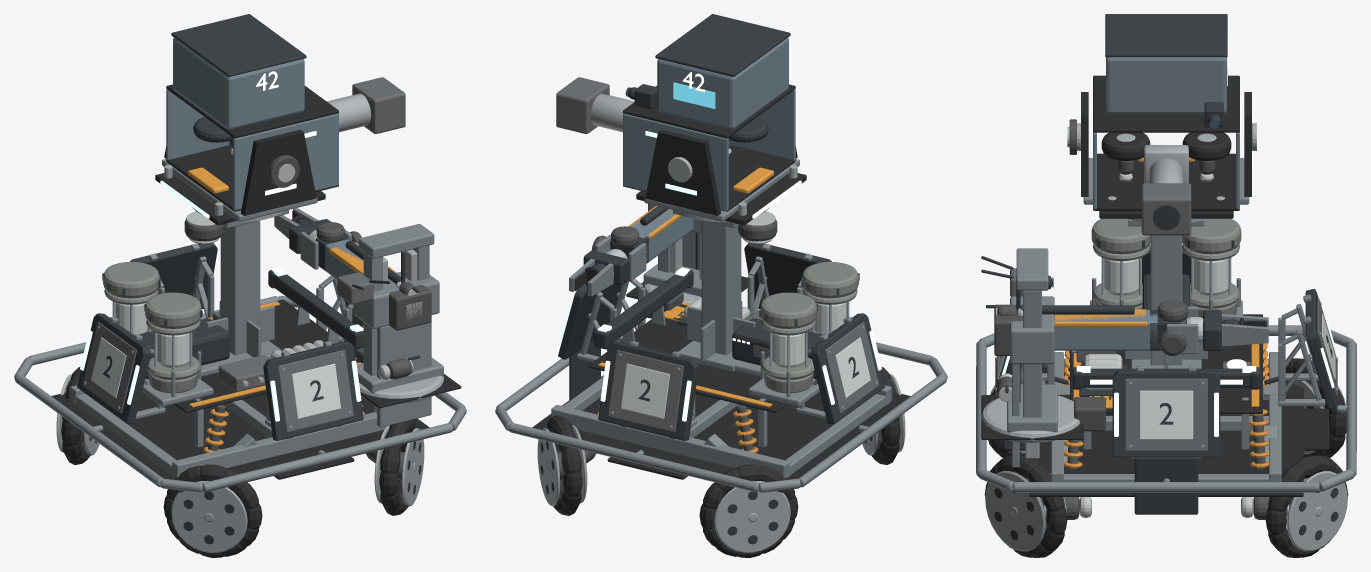
The model's file is robot-2713-spec2027.glb.
3 views of the same model, side by side, from view 1: azimuth 30°, elevation 25°; view 2: azimuth 150°, elevation 25°; view 3: azimuth 270°, elevation 25° (orthographic). The views are drawn at different scales.
Parts seen in each view (by area): view 1: Chassis_RobotMatteAluminum, GunPitch_TeamPrimaryShell, Chassis_CarbonPlate, GunPitch_RobotMatteGraphite, ArmLift_RobotMatteAluminum, ArmSlew_RobotMatteAluminum, LauncherModule_CarbonPlate, GunPitch_CarbonPlate, Wheel_0_MachinedAlloy, Chassis_RobotMatteGraphite, CarriedUnit_0_ProtectiveMetal, ArmorModuleBody.003 (+30 smaller); view 2: Chassis_RobotMatteAluminum, GunPitch_TeamPrimaryShell, Chassis_CarbonPlate, GunPitch_RobotMatteGraphite, Chassis_RobotMatteGraphite, LauncherModule_CarbonPlate, Wheel_1_MachinedAlloy, GunPitch_CarbonPlate, CarriedUnit_1_ProtectiveMetal, ArmorModuleBody.001, ArmorHitFace.001, Wheel_1_PolyurethaneRoller (+28 smaller); view 3: Chassis_RobotMatteAluminum, Chassis_CarbonPlate, GunPitch_CarbonPlate, GunPitch_TeamPrimaryShell, GunPitch_RobotMatteGraphite, Chassis_RobotMatteGraphite, ArmSlew_RobotMatteAluminum, ArmorHitFace, ArmorModuleBody, BoomOuter, Wheel_2_MachinedAlloy, Wheel_3_MachinedAlloy (+34 smaller).
Boxes of the visible parts, x1,y1,x2,y2 form: Chassis_RobotMatteAluminum: (14,210,466,492); GunPitch_TeamPrimaryShell: (166,37,338,210); Chassis_CarbonPlate: (51,299,461,492); GunPitch_RobotMatteGraphite: (171,14,306,142); ArmLift_RobotMatteAluminum: (353,271,439,427); ArmSlew_RobotMatteAluminum: (356,224,443,393); LauncherModule_CarbonPlate: (164,129,316,215); GunPitch_CarbonPlate: (166,84,338,211); Wheel_0_MachinedAlloy: (171,481,247,552); Chassis_RobotMatteGraphite: (139,270,363,378); CarriedUnit_0_ProtectiveMetal: (145,292,201,393); ArmorModuleBody.003: (263,341,363,440); Chassis_RobotMatteAluminum: (495,210,947,492); GunPitch_TeamPrimaryShell: (623,37,795,210); Chassis_CarbonPlate: (532,276,910,492); GunPitch_RobotMatteGraphite: (628,14,790,142); Chassis_RobotMatteGraphite: (569,270,822,399); LauncherModule_CarbonPlate: (645,129,797,215); Wheel_1_MachinedAlloy: (714,481,790,552); GunPitch_CarbonPlate: (623,84,795,211); CarriedUnit_1_ProtectiveMetal: (760,292,816,393); ArmorModuleBody.001: (598,341,698,440); ArmorHitFace.001: (608,350,683,432); Wheel_1_PolyurethaneRoller: (699,464,798,557); Chassis_RobotMatteAluminum: (976,219,1356,492); Chassis_CarbonPlate: (981,314,1329,496); GunPitch_CarbonPlate: (1093,75,1239,210); GunPitch_TeamPrimaryShell: (1093,57,1239,210); GunPitch_RobotMatteGraphite: (1105,14,1227,230); Chassis_RobotMatteGraphite: (1039,274,1293,514); ArmSlew_RobotMatteAluminum: (1007,248,1057,432); ArmorHitFace: (1125,378,1207,450); ArmorModuleBody: (1112,370,1220,457); BoomOuter: (1054,310,1157,350); Wheel_2_MachinedAlloy: (985,471,1066,551); Wheel_3_MachinedAlloy: (1266,471,1347,551).
Size of the model in its own units: 0.5985 by 0.817 by 0.5969.
